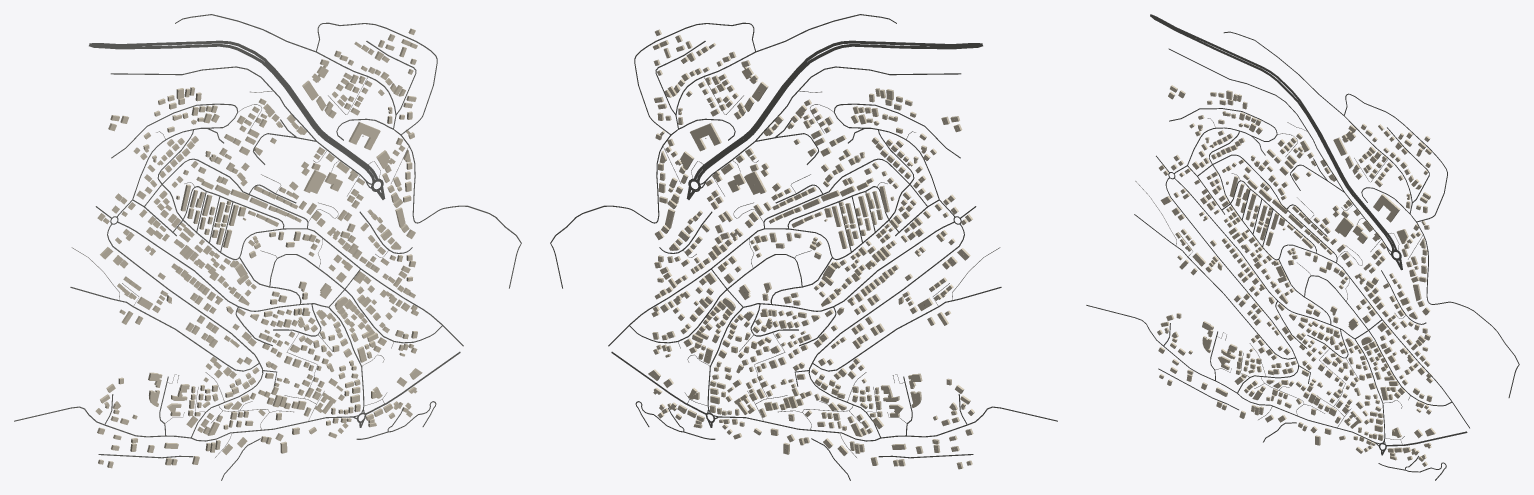
Rendered from historic-palestine-11_33_3529_3271.glb.
The picture shows the model from 3 angles, left to right: view 1: azimuth 30°, elevation 25°; view 2: azimuth 150°, elevation 25°; view 3: azimuth 330°, elevation 25°; orthographic projection. The views are drawn at different scales.
Visible parts, largest first — view 1: Road صفورية, Road صفورية.001, Road بلال, Road عمر بن الخطاب, Road 7031, Road 7249, Road 7064; view 2: Road صفورية, Road صفورية.001, Road بلال, Road عمر بن الخطاب, Road 7031, Road 7249, Road 7064; view 3: Road صفورية, Road صفورية.001, Road بلال, Road عمر بن الخطاب, Road 7031.
Part boxes in pixels (x1,y1,x2,y2): Road صفورية: [89, 40, 378, 180]; Road صفورية.001: [89, 44, 374, 182]; Road بلال: [175, 14, 521, 288]; Road عمر بن الخطاب: [158, 178, 463, 346]; Road 7031: [14, 406, 352, 441]; Road 7249: [107, 224, 263, 437]; Road 7064: [111, 103, 238, 216]; Road صفورية: [694, 40, 982, 180]; Road صفورية.001: [697, 44, 982, 182]; Road بلال: [550, 14, 896, 288]; Road عمر بن الخطاب: [608, 178, 913, 346]; Road 7031: [719, 406, 1057, 441]; Road 7249: [808, 224, 964, 437]; Road 7064: [834, 103, 960, 217]; Road صفورية: [1150, 14, 1396, 249]; Road صفورية.001: [1150, 14, 1394, 251]; Road بلال: [1223, 31, 1519, 397]; Road عمر بن الخطاب: [1209, 158, 1469, 428]; Road 7031: [1086, 305, 1375, 442].
Size of the model in its own units: 1520 by 1351 by 8.7.
